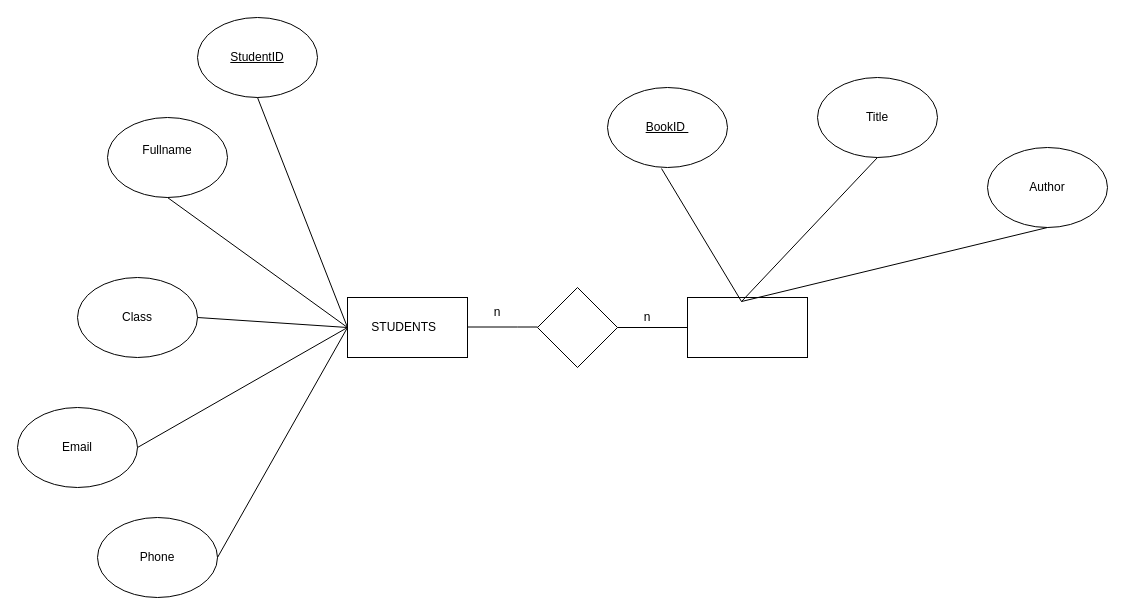
Image size: 1125x615. Some labels were removed from this diagram. The centre of each missing label's shape, as x and y in pixels:
"BOOKS" belongs at point 747,327.
"BORROWS" belongs at point 577,327.
